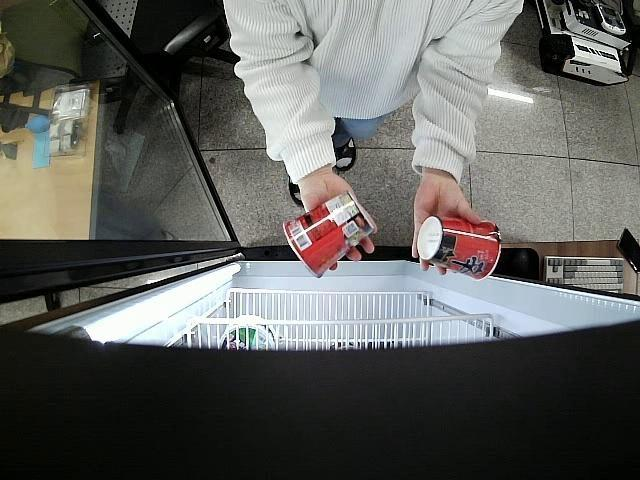02_shinRamen_S: (284, 192, 374, 278), (416, 216, 501, 281)
